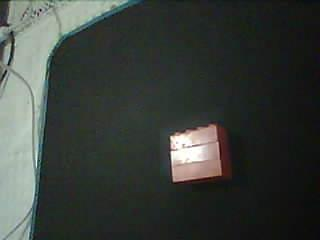lego: (168, 122, 233, 186)
